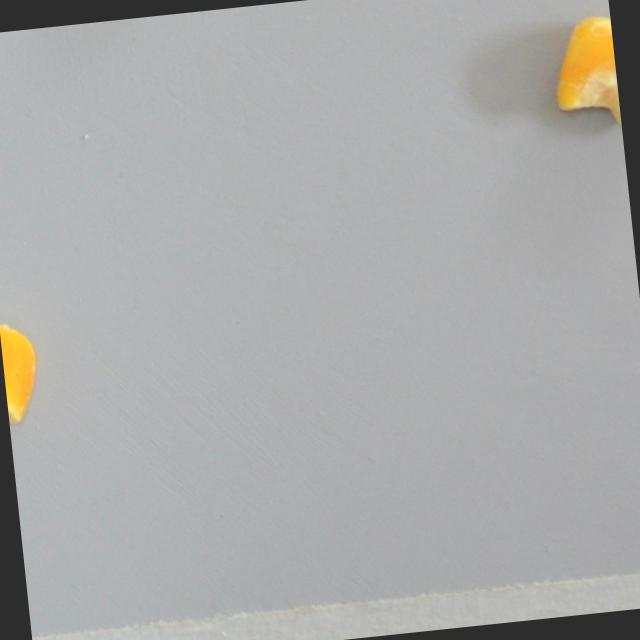pelicula: (547, 12, 622, 137), (0, 313, 43, 425)
